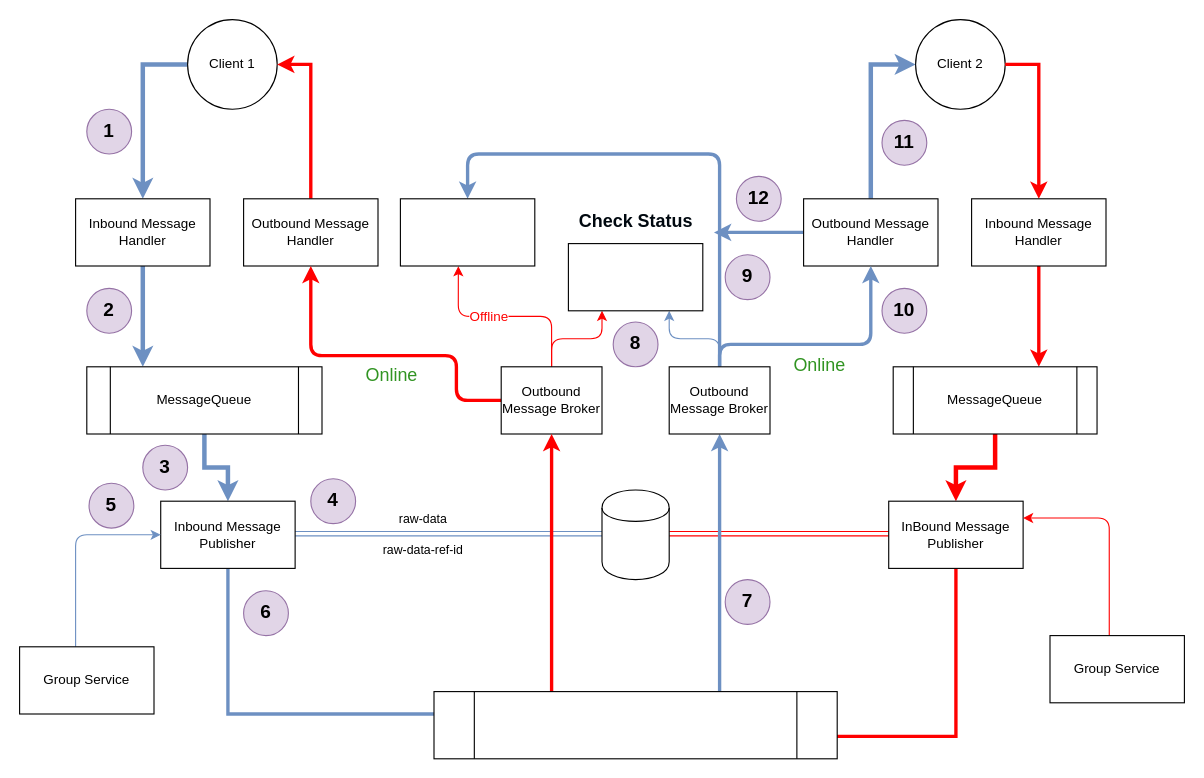
This 1204x778 diagram has some shape labels left out. Here are the shapes that lost their labels. From the top down, the centre of each, then its label:
At pixel 467 232: "Notification".
At pixel 635 276: "Session Service".
At pixel 635 534: "Redis Cluster".
At pixel 635 724: "Centeralize Message Queue".
